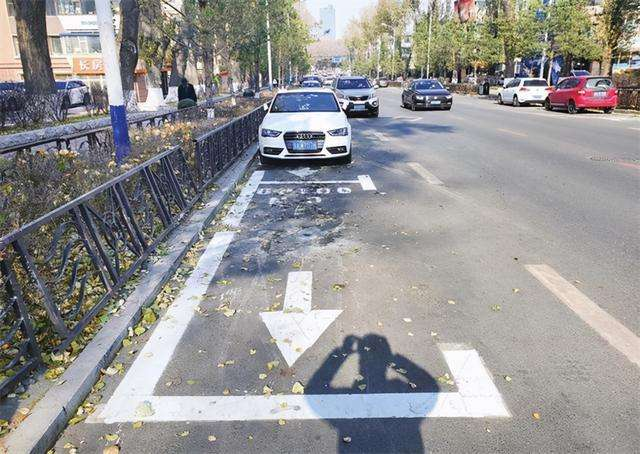slot_nocar: (91, 172, 525, 444)
